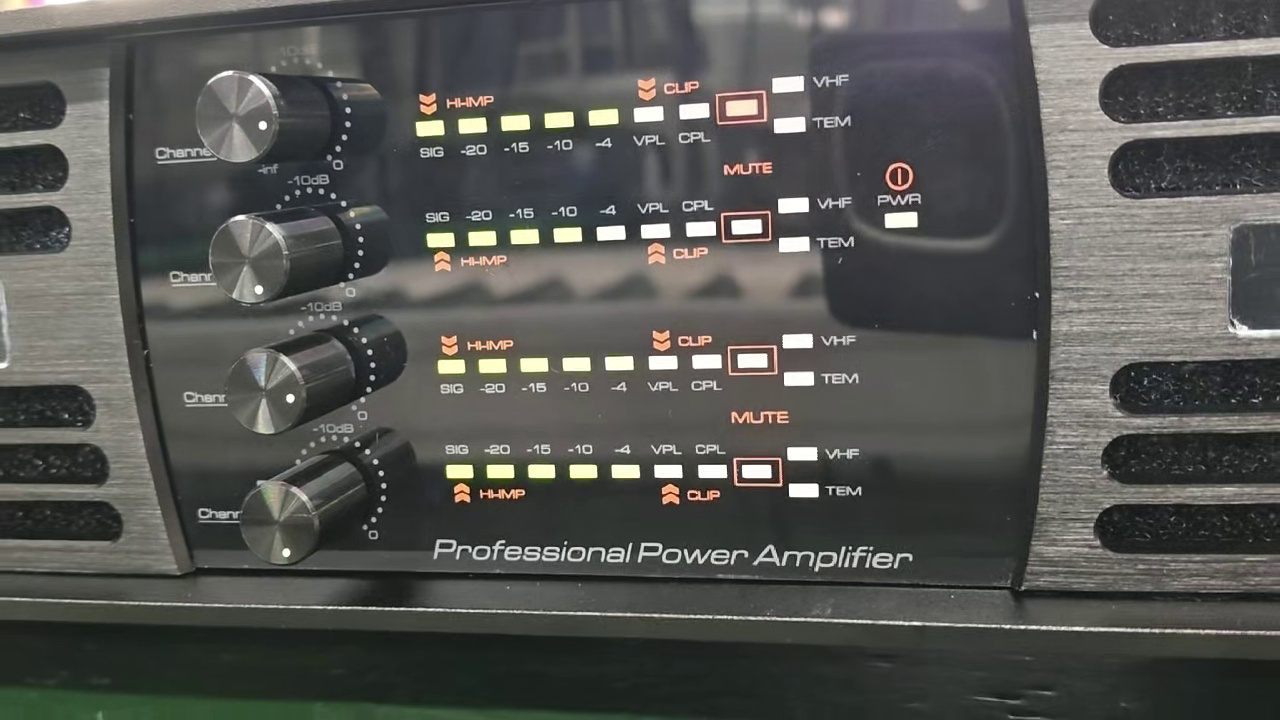FP_CPL: (672, 98, 717, 158), (680, 193, 717, 242), (687, 350, 724, 395), (695, 438, 730, 485)
FP_PWR: (874, 190, 925, 233)
FP_PWR_area: (868, 152, 929, 239)
FP_SIG_area: (399, 70, 862, 160), (421, 189, 856, 279), (437, 436, 864, 515), (432, 325, 865, 398)
FP_VPL: (628, 99, 669, 158), (643, 349, 685, 397), (635, 197, 673, 243), (649, 439, 686, 483)
